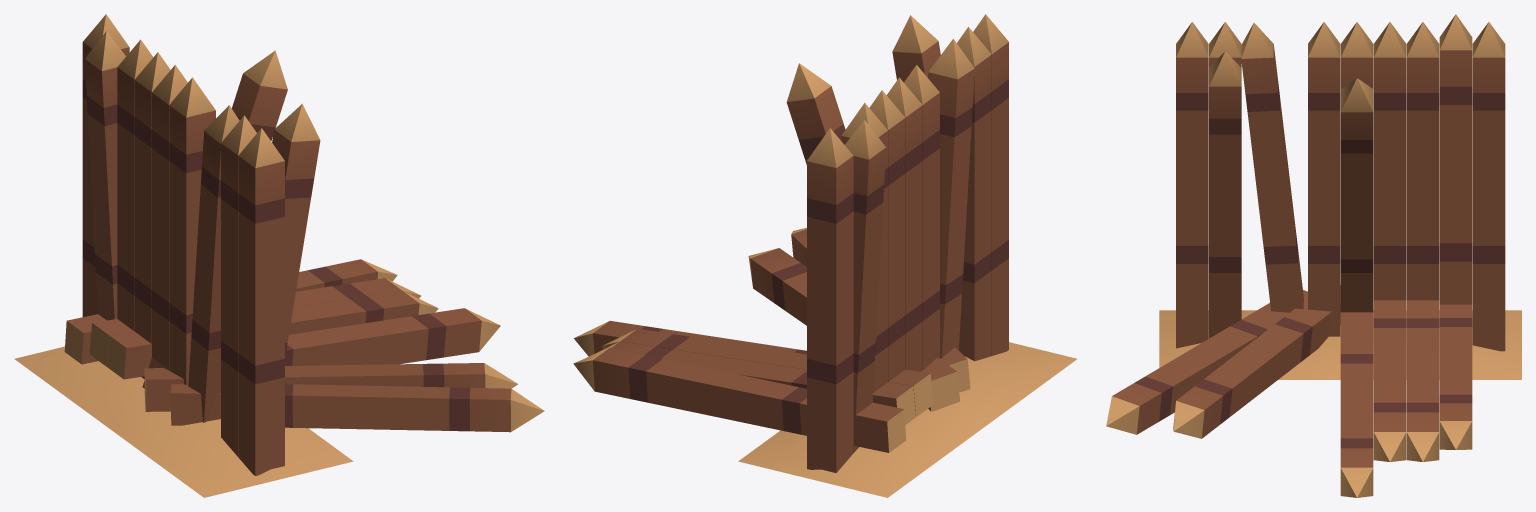
Rendered from Wooden Wall 3.fbx.
3 views of the same model, side by side, from view 1: azimuth 30°, elevation 25°; view 2: azimuth 150°, elevation 25°; view 3: azimuth 270°, elevation 25° (orthographic). The views are drawn at different scales.
Visible parts, largest first — view 1: Wall, Destruction_phase_2, Destruction_phase_1; view 2: Wall, Destruction_phase_2, Destruction_phase_1; view 3: Wall, Destruction_phase_2, Destruction_phase_1.
Part boxes in pixels (x1,y1,x2,y2): Wall: (14, 14, 353, 497); Destruction_phase_2: (64, 103, 544, 432); Destruction_phase_1: (142, 50, 287, 388); Wall: (738, 14, 1077, 497); Destruction_phase_2: (573, 15, 970, 452); Destruction_phase_1: (786, 63, 922, 371); Wall: (1159, 14, 1521, 379); Destruction_phase_2: (1106, 51, 1472, 497); Destruction_phase_1: (1340, 78, 1373, 312).
Size of the model in its own units: 1.34 by 1.13 by 1.26.
Materials: 1 (1 with a texture image).
